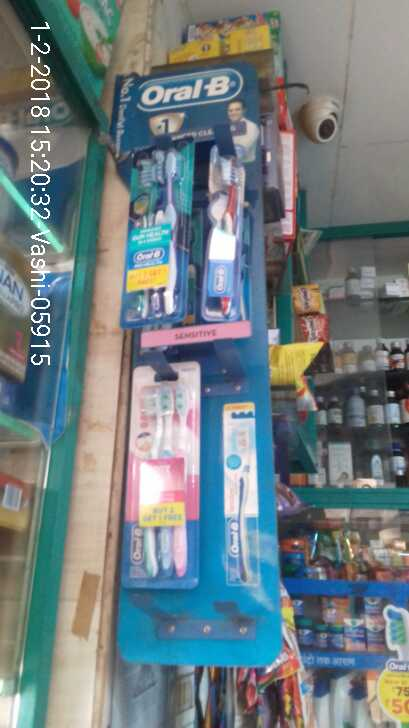oralb: (132, 378, 199, 587), (127, 148, 185, 322), (220, 412, 262, 592), (209, 145, 246, 312)
